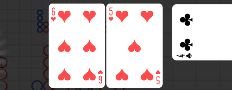10H: (51, 7, 58, 23)
5H: (155, 69, 162, 85)
